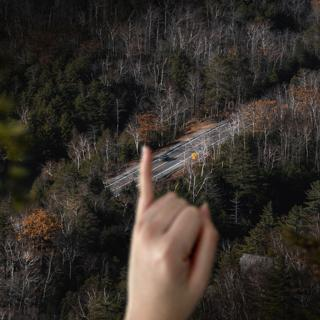Fine: (110, 134, 221, 317)
